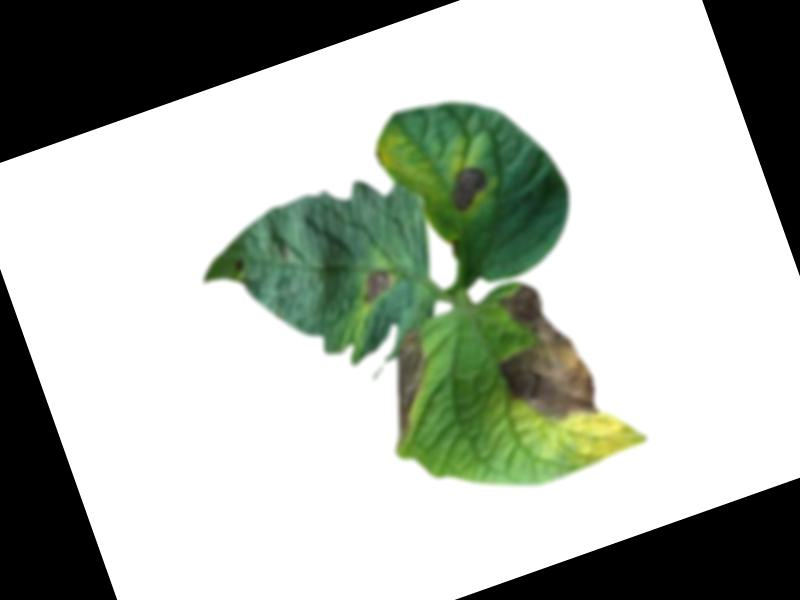Early_blight: (473, 270, 604, 440), (355, 327, 451, 445), (441, 161, 495, 216), (354, 265, 397, 307), (229, 256, 247, 276)
